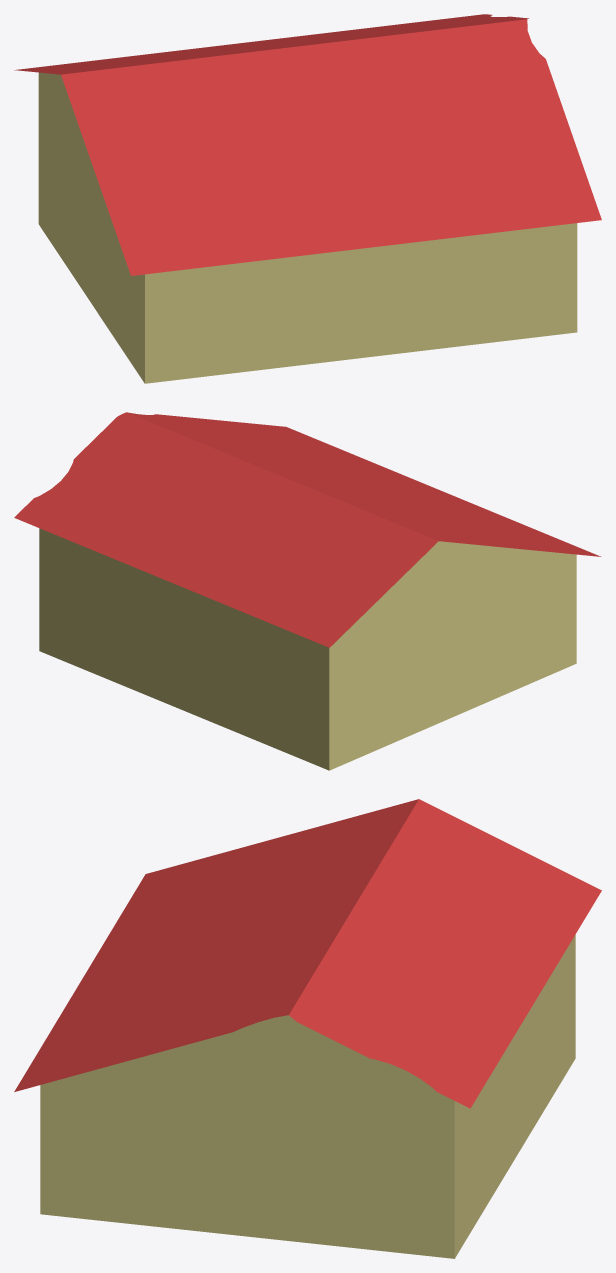
3 views of the same model, one above another, from view 1: azimuth 30°, elevation 25°; view 2: azimuth 150°, elevation 25°; view 3: azimuth 270°, elevation 25° (orthographic). The views are drawn at different scales.
Size of the model in its own units: 29.13 by 27.07 by 11.85.
